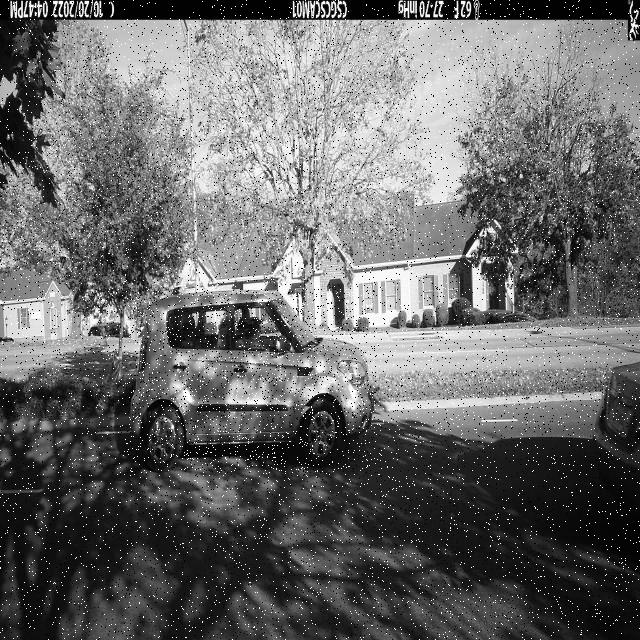Hatchback: (128, 289, 376, 473)
